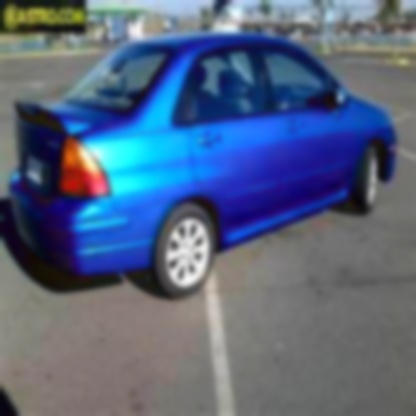Vehicle: (10, 31, 400, 305)
